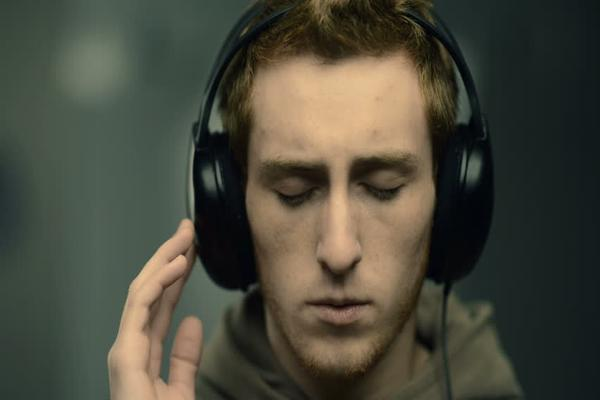headphone: (135, 33, 532, 321), (170, 7, 508, 293)
